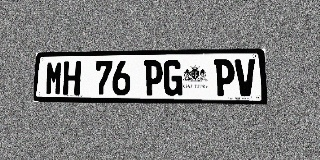6: (112, 60, 131, 95)
7: (94, 61, 112, 95)
G: (163, 60, 182, 96)
H: (62, 61, 81, 95)
M: (45, 61, 63, 95)
P: (214, 59, 235, 96), (144, 60, 163, 96)
V: (235, 59, 256, 96)
